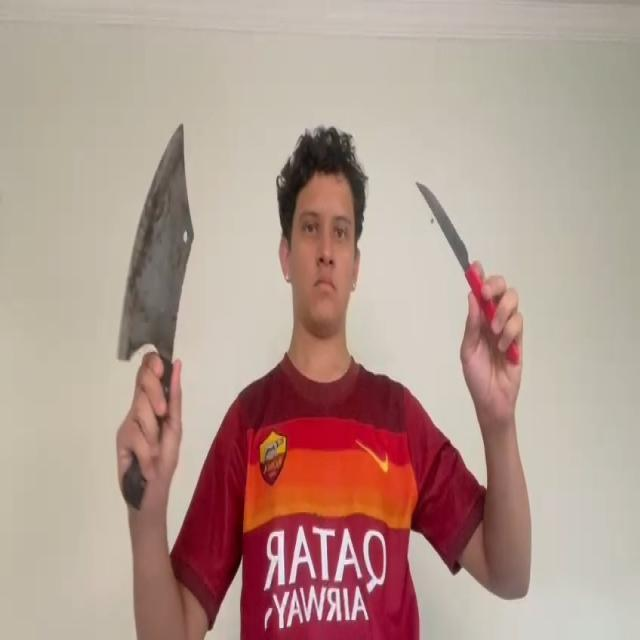knife: (117, 124, 197, 366), (414, 181, 473, 269)
